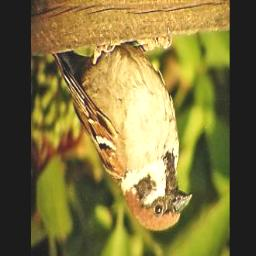Sparrow: (53, 27, 195, 234)
